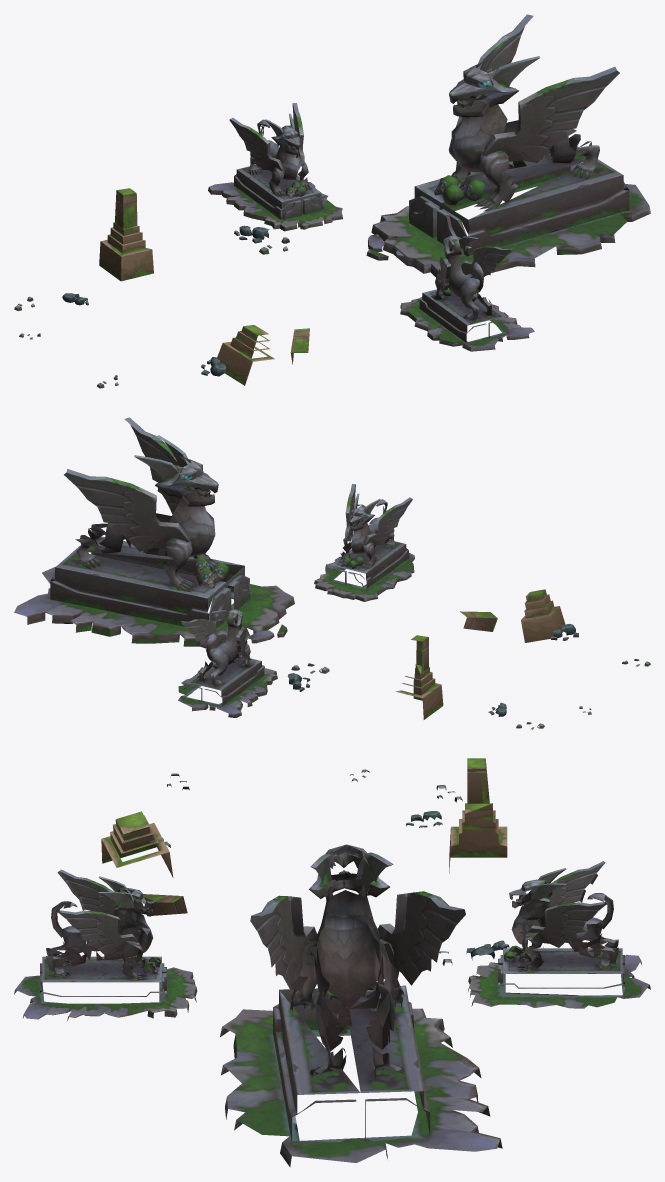
The model's file is boss4_wujian_1.fbx.
3 views of the same model, one above another, from view 1: azimuth 30°, elevation 25°; view 2: azimuth 150°, elevation 25°; view 3: azimuth 270°, elevation 25° (orthographic). The views are drawn at different scales.
Parts seen in each view (by area): view 1: boss4_wujian_1; view 2: boss4_wujian_1; view 3: boss4_wujian_1.
Part boxes in pixels (<box>): boss4_wujian_1: <box>14,14,650,388</box>; boss4_wujian_1: <box>14,417,650,729</box>; boss4_wujian_1: <box>14,758,650,1167</box>.
Size of the model in its own units: 2478 by 725 by 1673.
